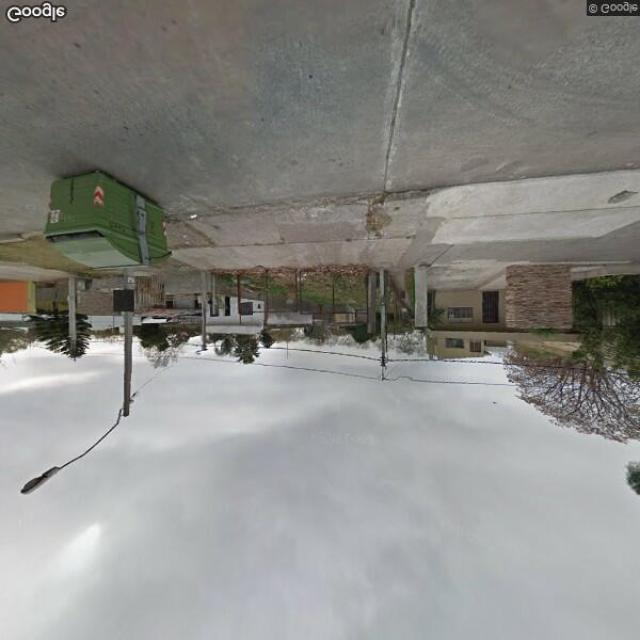garbage container: (36, 162, 185, 285)
